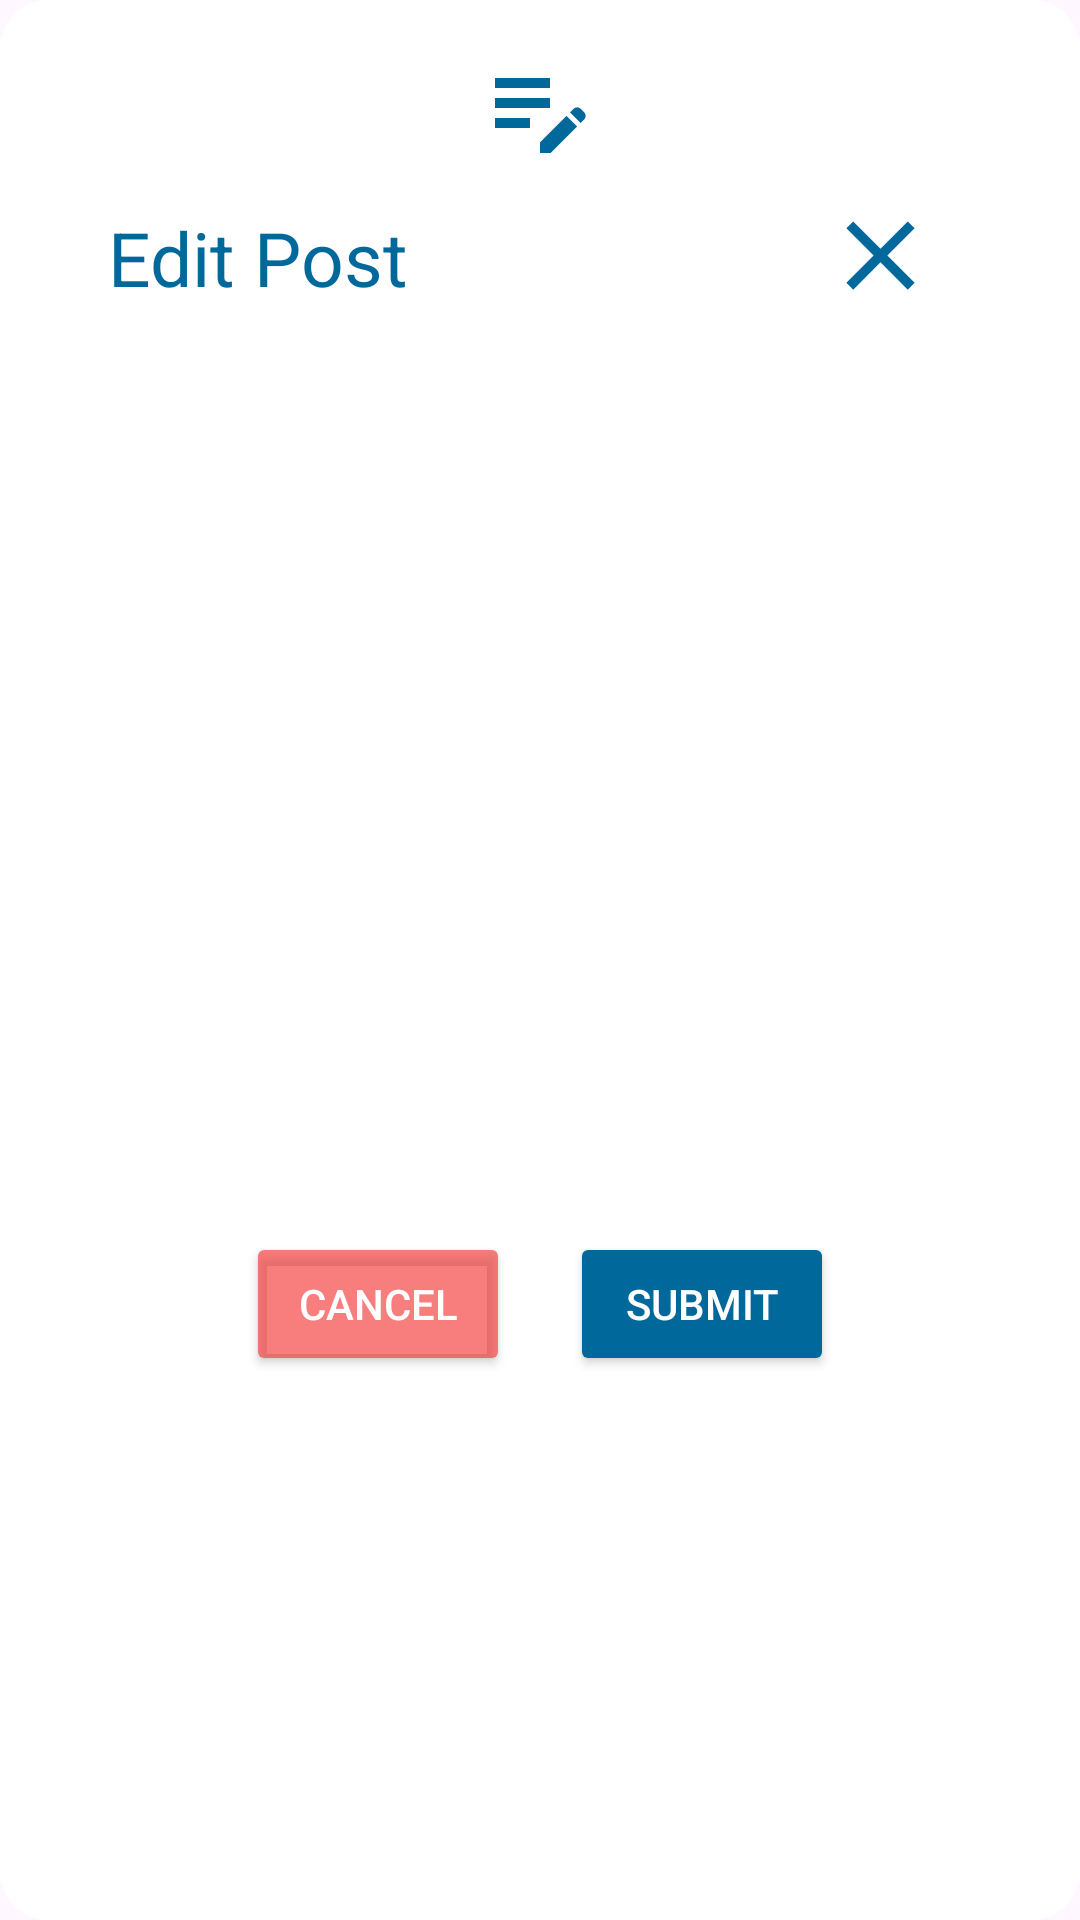

Named icons in this screenshot (1080px x 1920px) and their centers, (x=x, y=y):
clear: (x=880, y=255)
edit note: (x=540, y=115)
